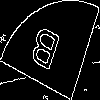B: (24, 24, 63, 81)
